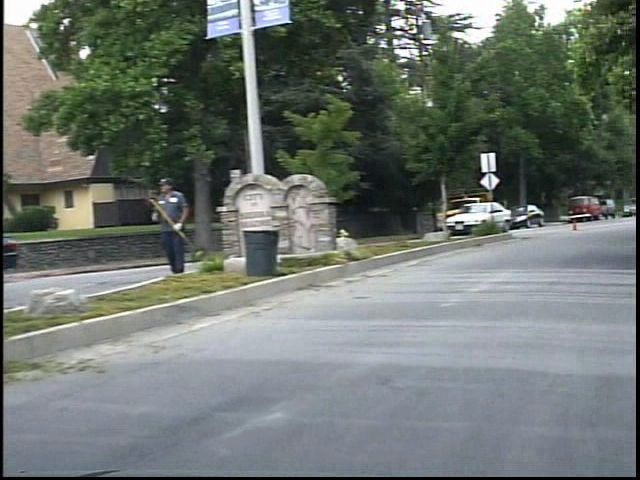person: (160, 171, 203, 277)
